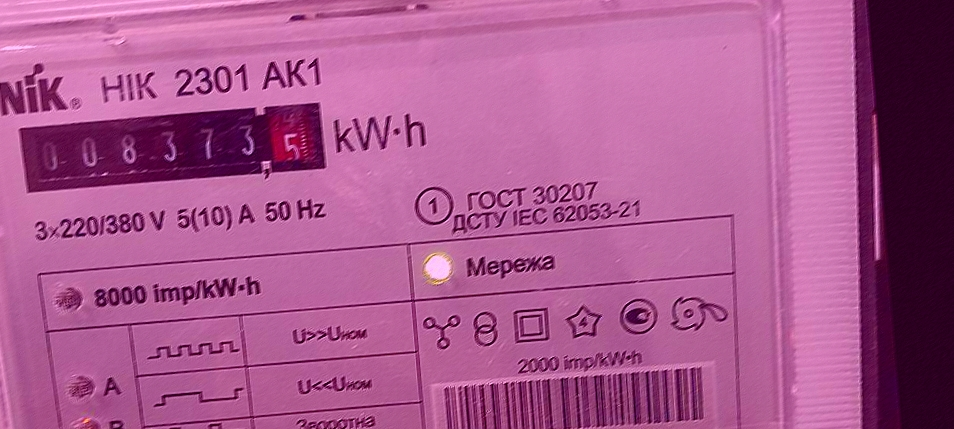0: (37, 136, 60, 173), (77, 132, 98, 169)
3: (233, 119, 258, 158), (155, 125, 179, 164)
4: (277, 108, 297, 129)
5: (280, 129, 301, 160)
7: (195, 121, 216, 162)
8: (116, 128, 139, 166)
screen: (11, 93, 334, 205)
